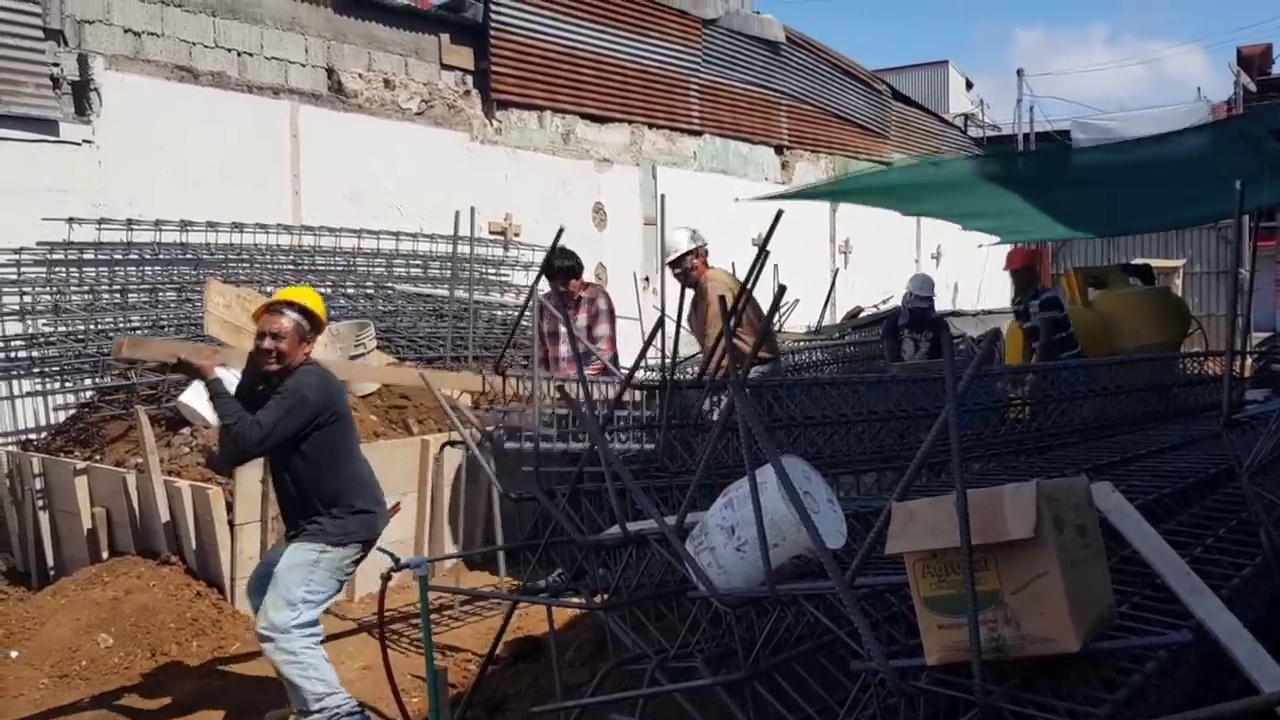helmet: (246, 280, 329, 328), (664, 220, 709, 264), (905, 272, 935, 299), (1002, 246, 1033, 271)
helmet-off: (537, 245, 579, 305)
helmet-on: (245, 285, 325, 379), (664, 224, 714, 291), (1002, 246, 1042, 293), (903, 271, 937, 314)
person: (177, 294, 390, 720), (663, 222, 776, 393), (524, 248, 622, 382), (1002, 246, 1083, 365), (880, 273, 952, 370)
